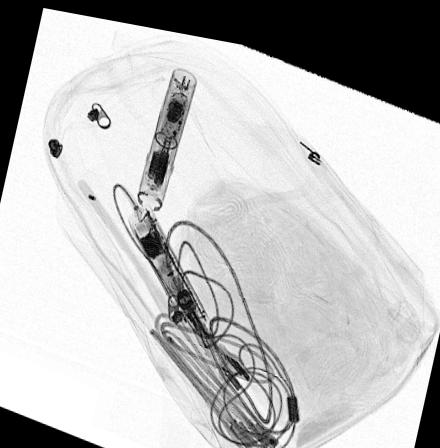Baton: (126, 196, 234, 367), (136, 60, 196, 206)
